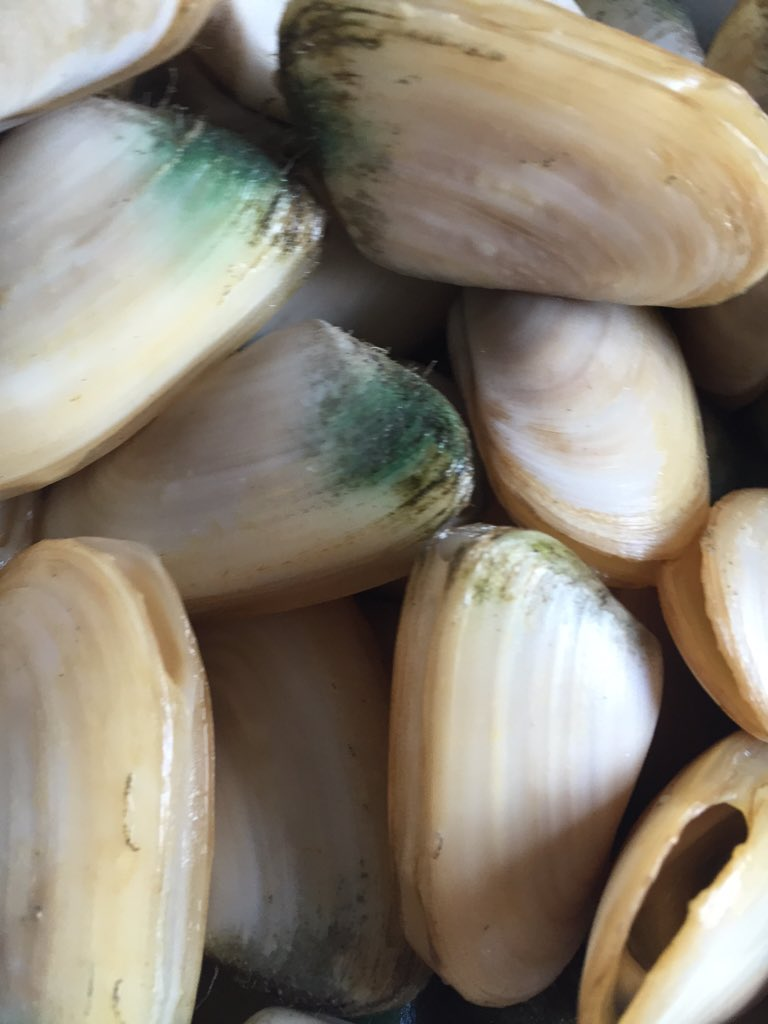tuatua: (270, 1, 766, 315), (402, 507, 665, 1021), (41, 308, 474, 619), (2, 95, 320, 503), (2, 519, 225, 1024), (441, 280, 717, 585)
